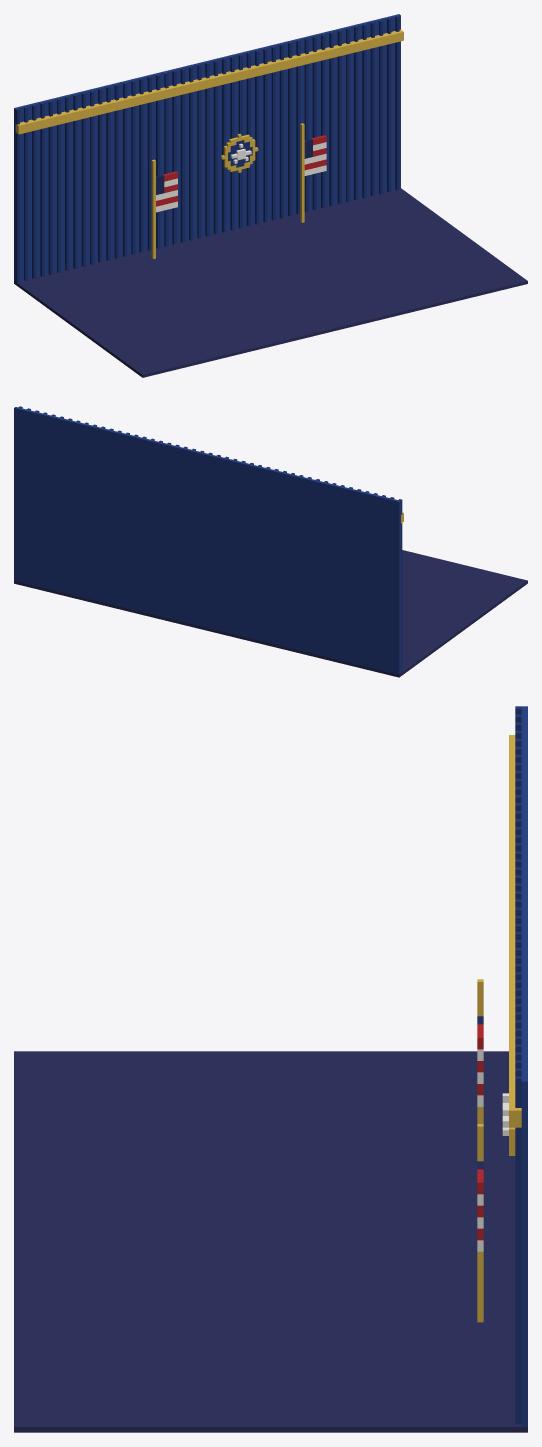
Rendered from pressroom.glb.
The picture shows the model from 3 angles, top to bottom: view 1: azimuth 30°, elevation 25°; view 2: azimuth 150°, elevation 25°; view 3: azimuth 270°, elevation 25°; orthographic projection. The views are drawn at different scales.
Parts seen in each view (by area): view 1: pressroom; view 2: pressroom; view 3: pressroom.
Part boxes in pixels (x1,y1,x2,y2): pressroom: (14,14,527,377); pressroom: (14,406,527,677); pressroom: (14,706,527,1432).
Size of the model in its own units: 14 by 6.1 by 8.1.
Materials: 1 (1 with a texture image).
